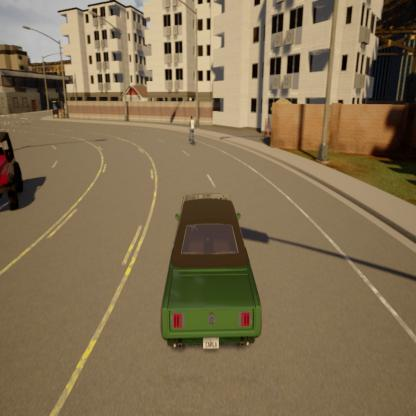Cars: (151, 182, 266, 366), (0, 120, 31, 216)
